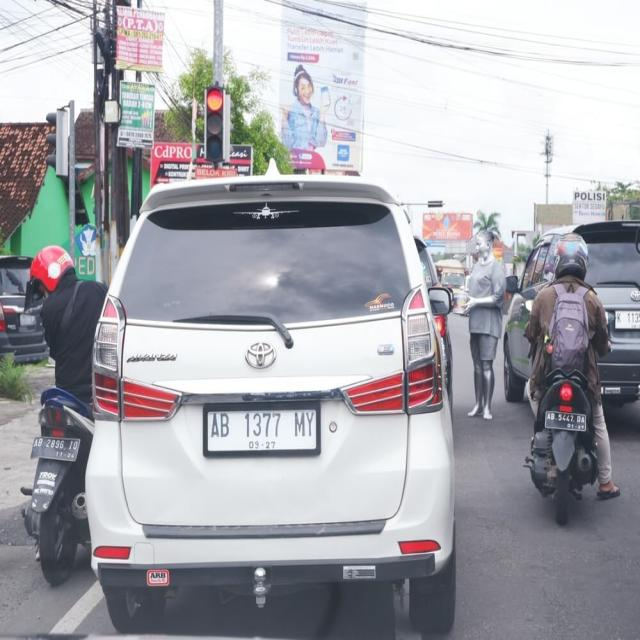license-plat: (198, 399, 323, 459)
